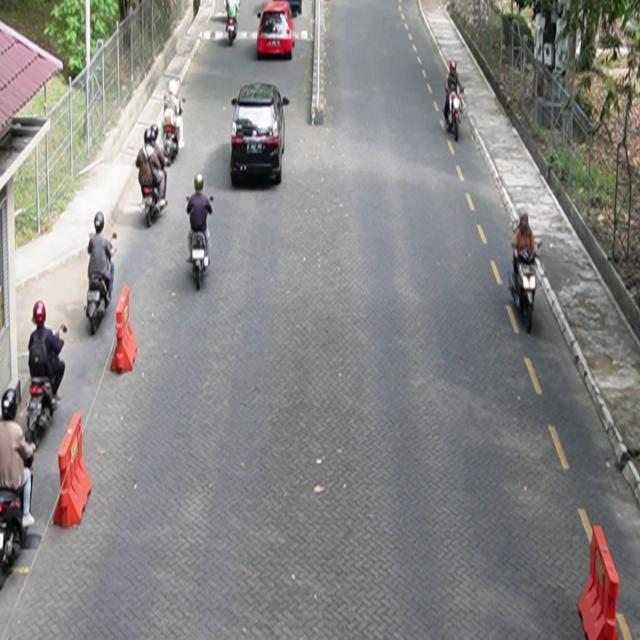car: (231, 82, 290, 187), (257, 2, 296, 60)
